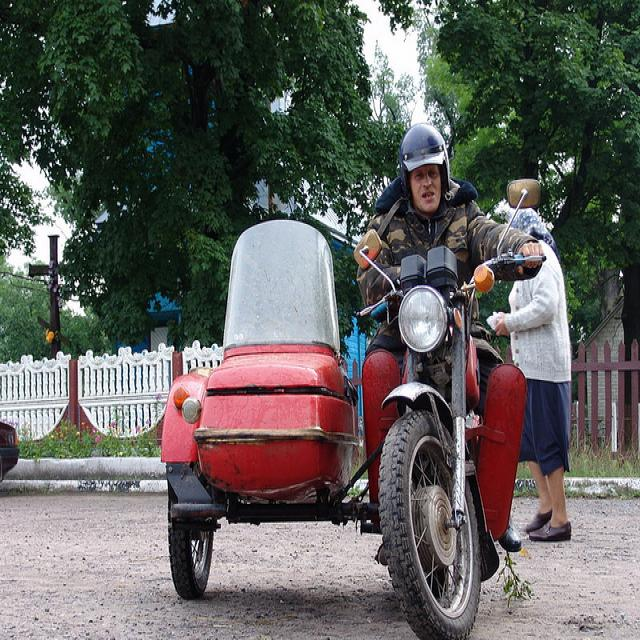motor: (352, 180, 551, 631)
